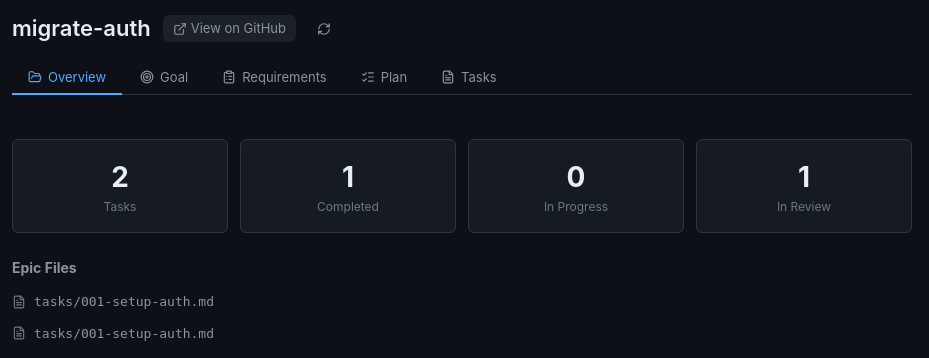
Test: EpicDetail › shows tasks tab with task list
The width and height of the screenshot is (929, 358).
Click the button with test id "tab-tasks" at [469, 78], box [425,61,513,95]
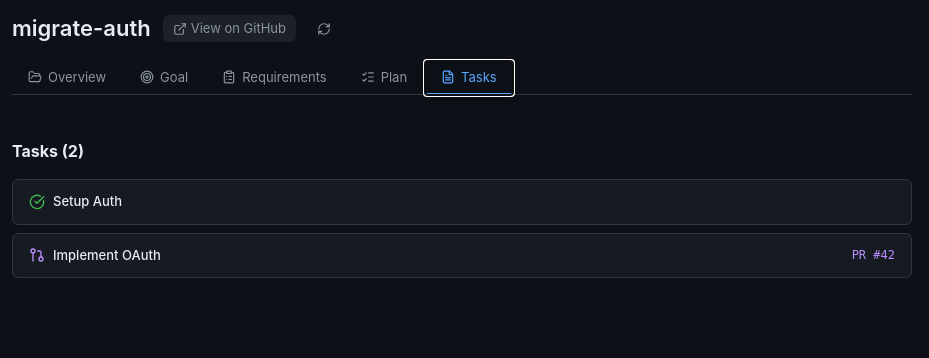
Expected: the text "Setup Auth" is shown, [53,193,122,209]
Expected: the text "Implement OAuth" is shown, [53,246,161,262]
